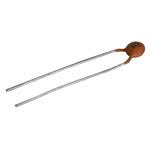ceramic capacitor: (96, 22, 150, 104)
